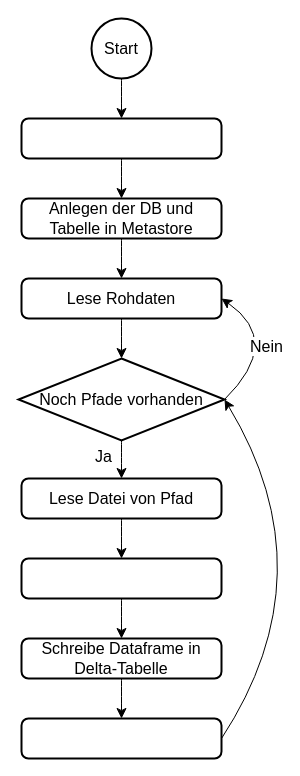
Some shapes in this 300 by 776 pixel diagram are drawn without their labels. The box of each missing label's shape, as (x1, y1, x2, y2) in pixels:
Archiviere Rohdaten: (20, 717, 222, 759)
Data Flattening: (20, 557, 222, 599)
Erstelle Spark Context: (20, 117, 222, 159)
